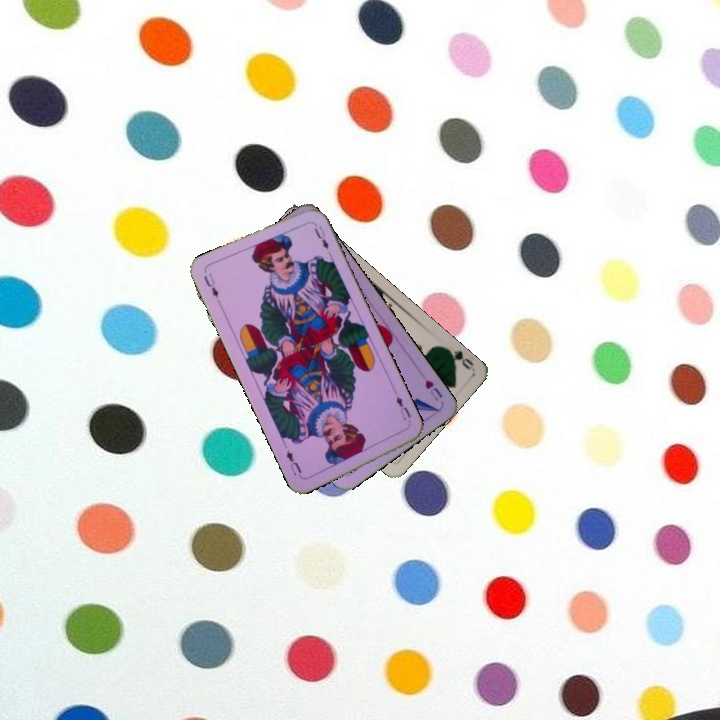EU: (391, 389, 414, 427), (200, 269, 221, 300)
GO: (439, 343, 476, 372)
HU: (421, 376, 445, 404)
